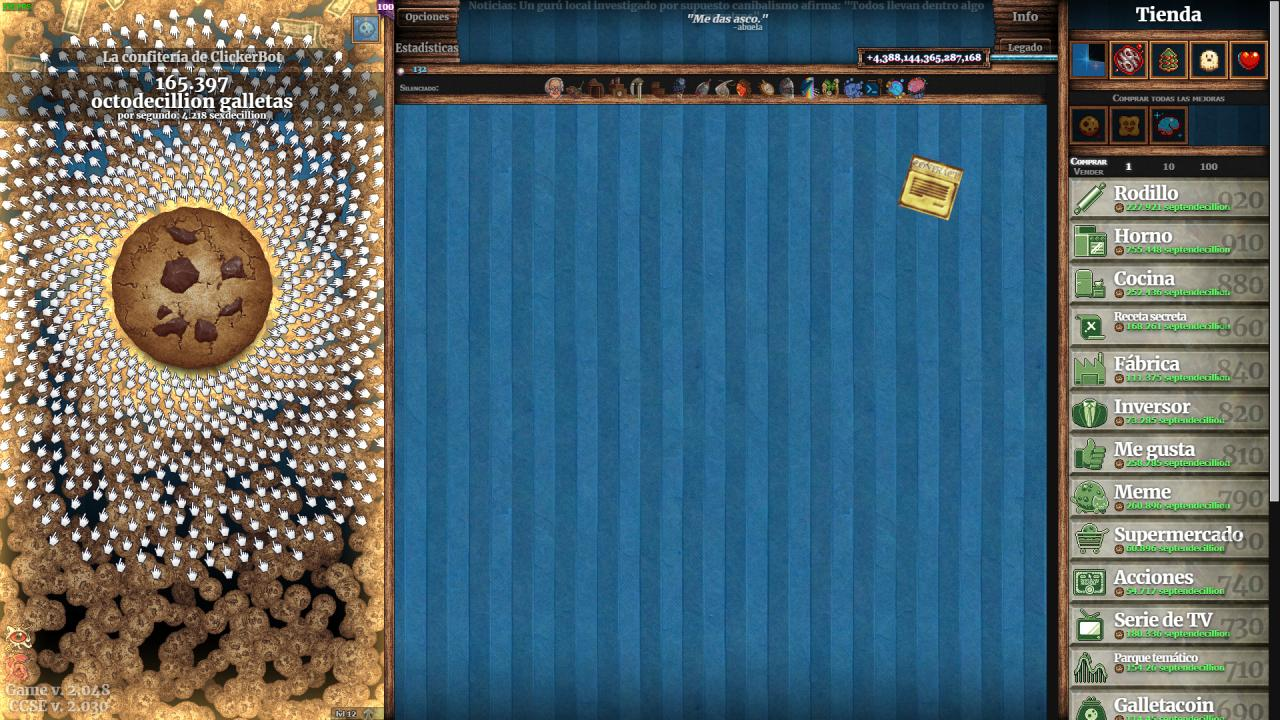GoldenCartridge: (896, 153, 966, 223)
